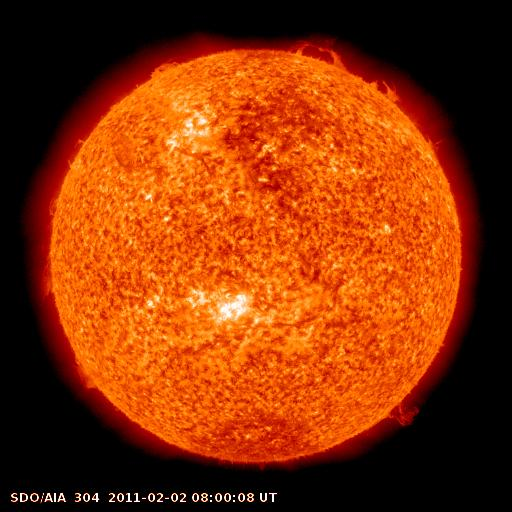prominence: (20, 244, 73, 315), (371, 377, 439, 430), (283, 28, 346, 70), (63, 346, 105, 402), (363, 68, 408, 112), (144, 50, 187, 91), (38, 178, 73, 227)
